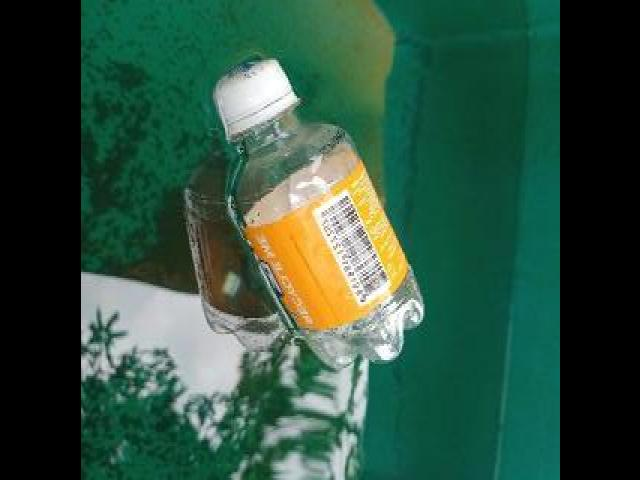Bottle: (206, 44, 464, 394)
